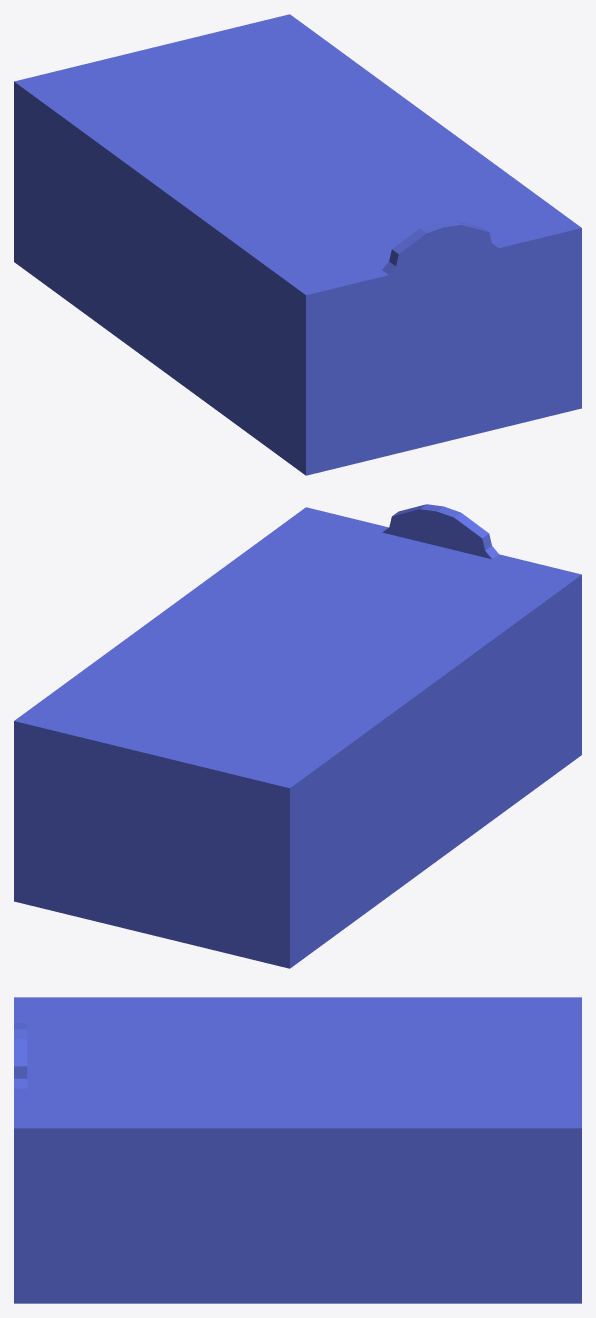
Rendered from general_shop_1.glb.
The picture shows the model from 3 angles, top to bottom: view 1: azimuth 30°, elevation 25°; view 2: azimuth 150°, elevation 25°; view 3: azimuth 270°, elevation 25°; orthographic projection. The views are drawn at different scales.
Visible parts, largest first — view 1: GeneralShop-col; view 2: GeneralShop-col; view 3: GeneralShop-col.
Part boxes in pixels (left/top/right/bottom): GeneralShop-col: left=14, top=14, right=581, bottom=475; GeneralShop-col: left=14, top=504, right=581, bottom=968; GeneralShop-col: left=14, top=997, right=581, bottom=1303.
Bounding box in the file's own units: 6 × 4.46 × 11.
